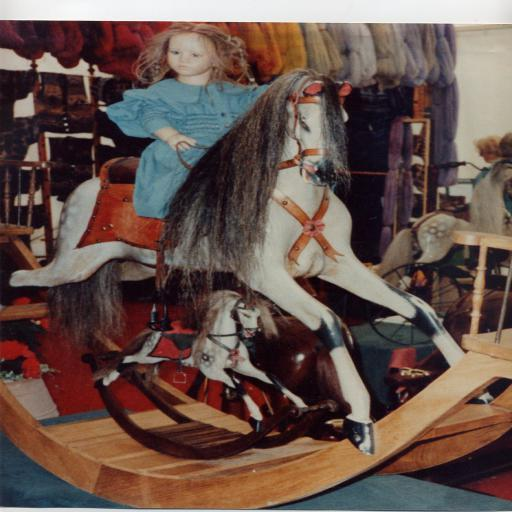horse: (1, 67, 506, 452), (72, 289, 314, 434), (376, 159, 510, 291)
